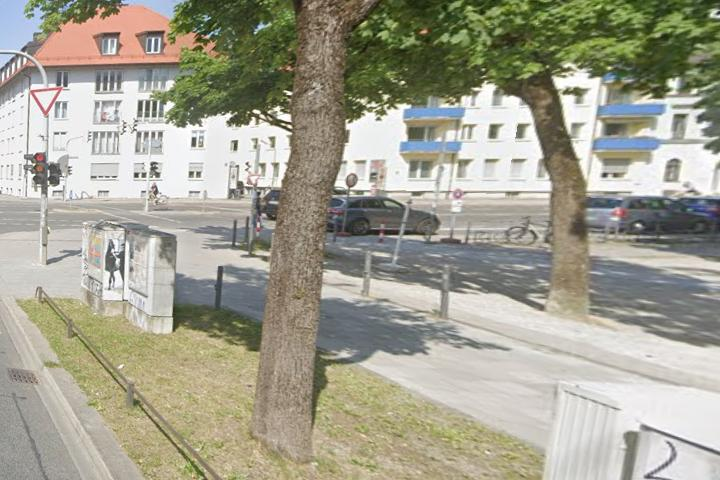traffic_sign: (30, 86, 63, 117)
vehicle: (574, 190, 712, 245), (308, 191, 447, 241)
